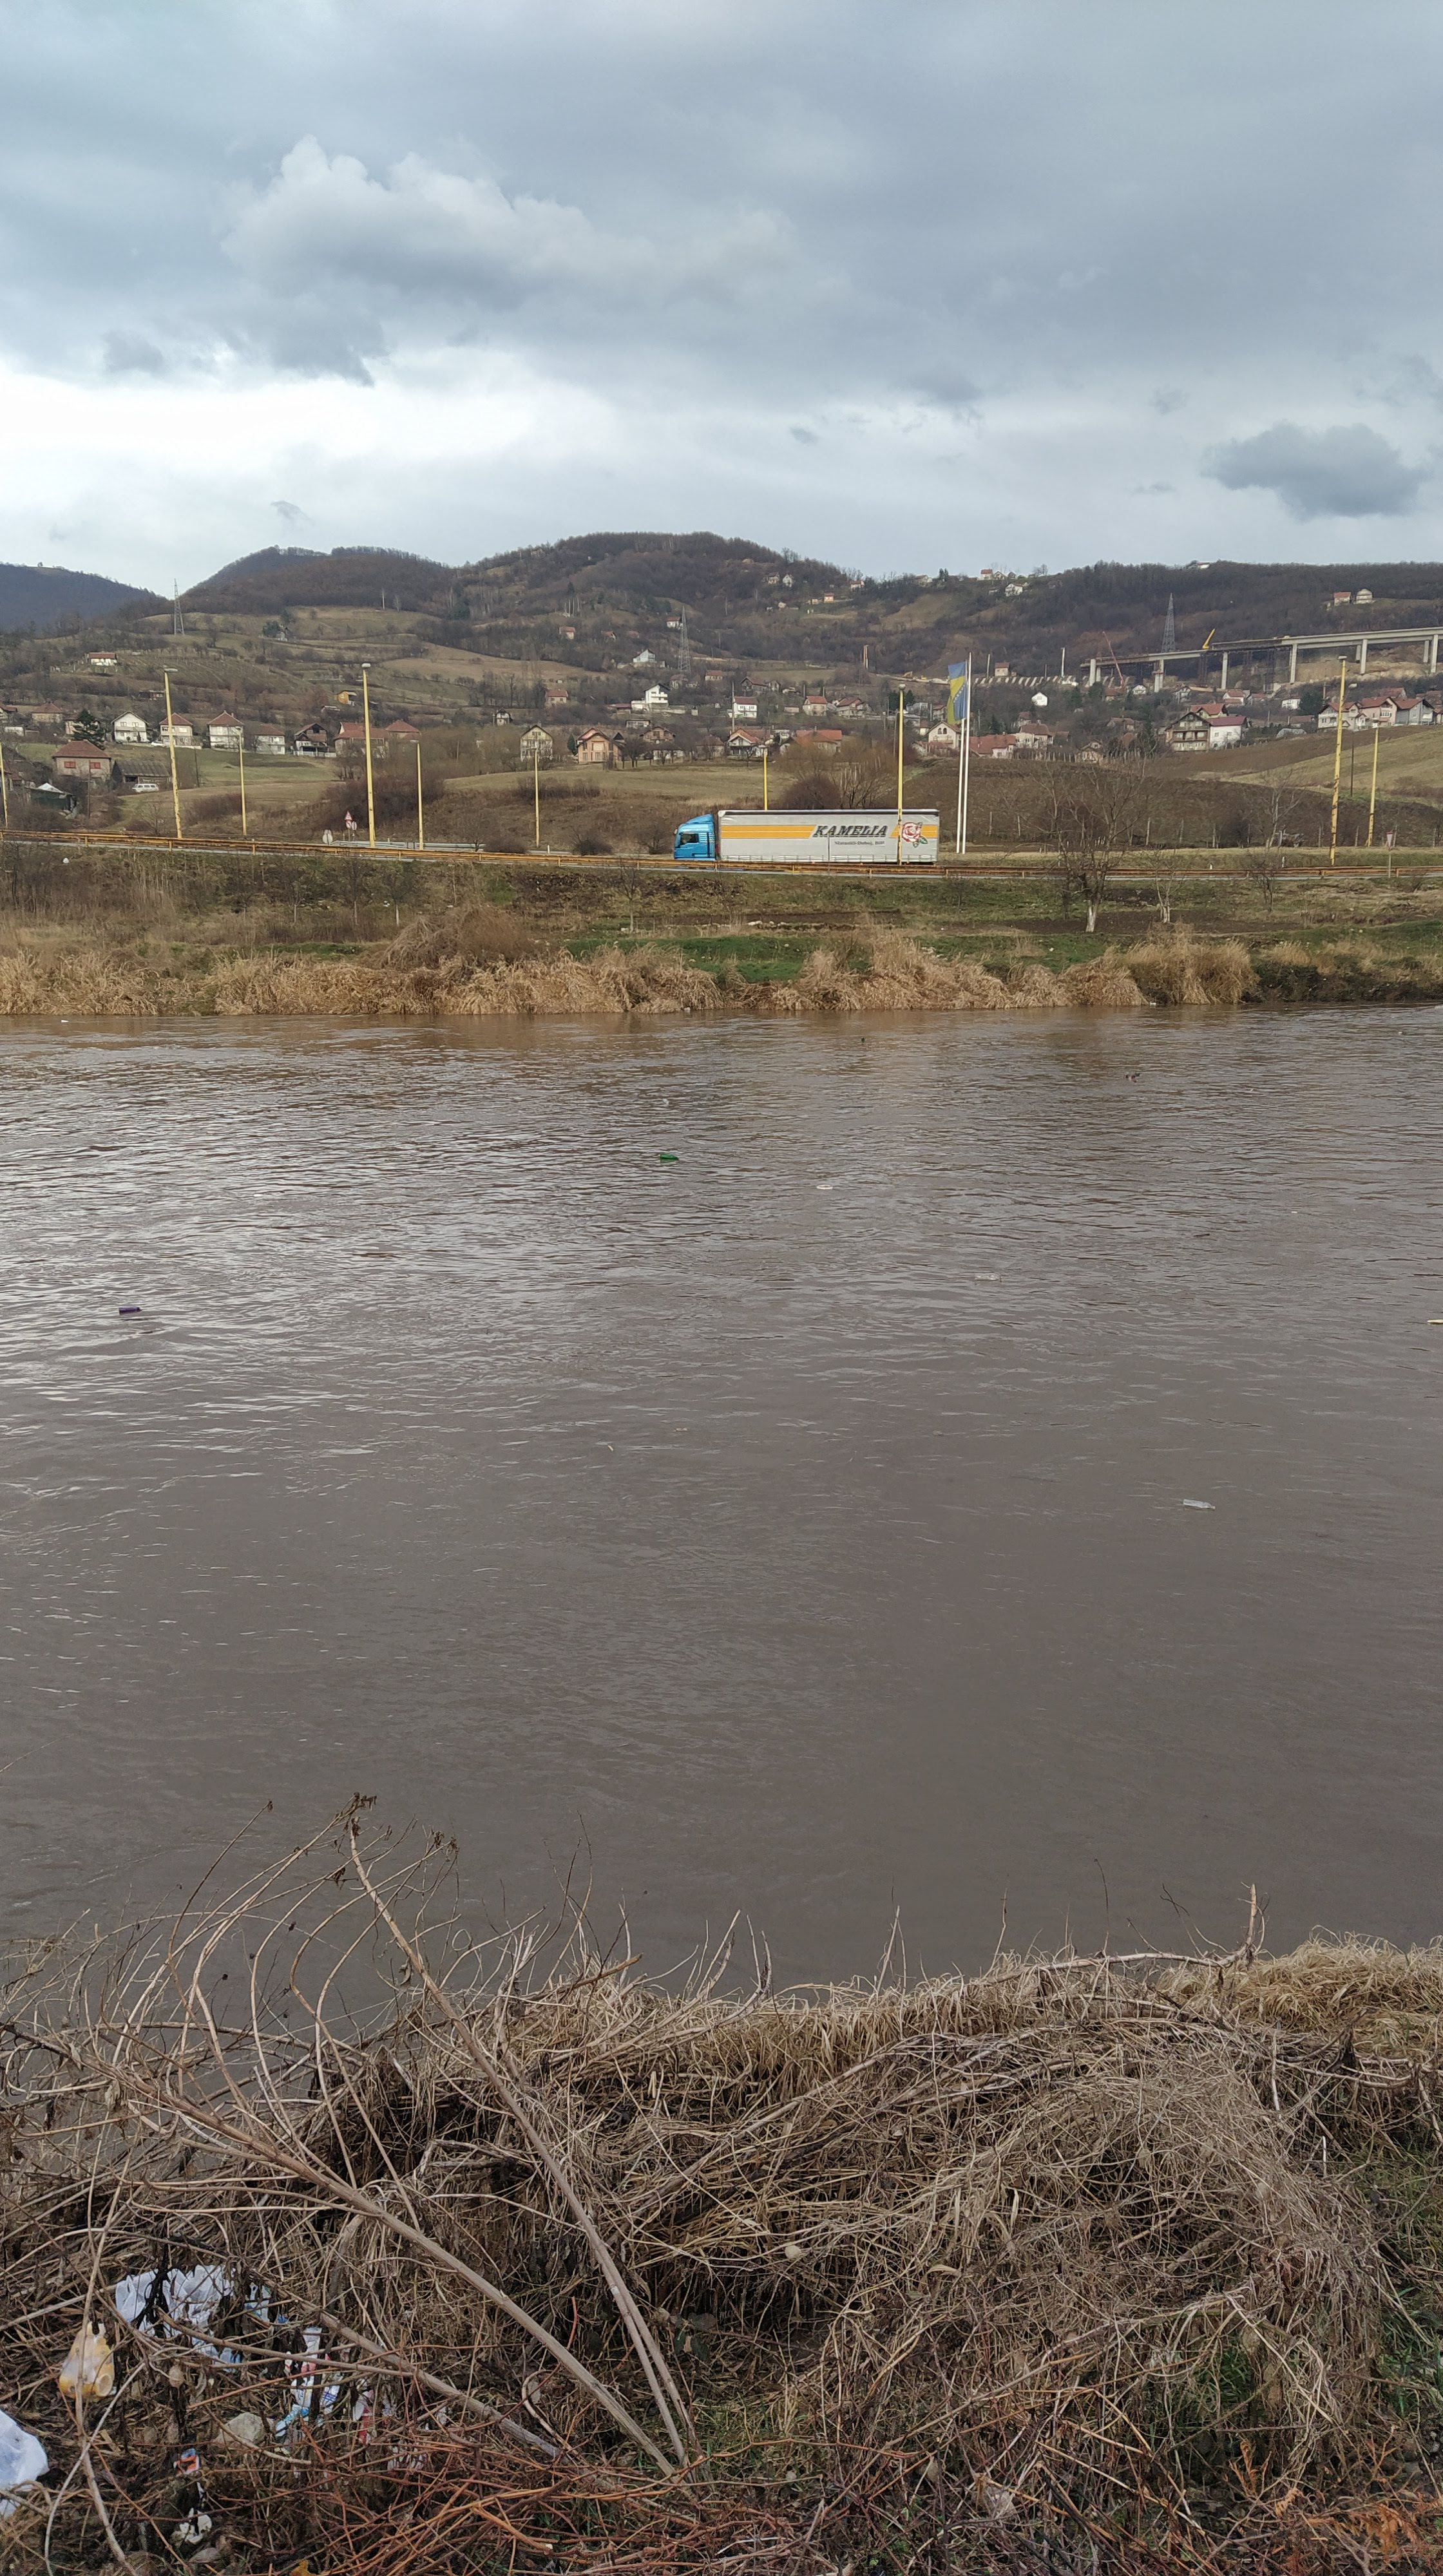Plastic Bottle: (1183, 1499, 1215, 1511), (974, 1272, 1002, 1281), (119, 1306, 140, 1313), (660, 1154, 678, 1161), (664, 1099, 669, 1106), (860, 1037, 866, 1042), (62, 1019, 69, 1023), (1149, 1001, 1156, 1005), (685, 1008, 691, 1010)
